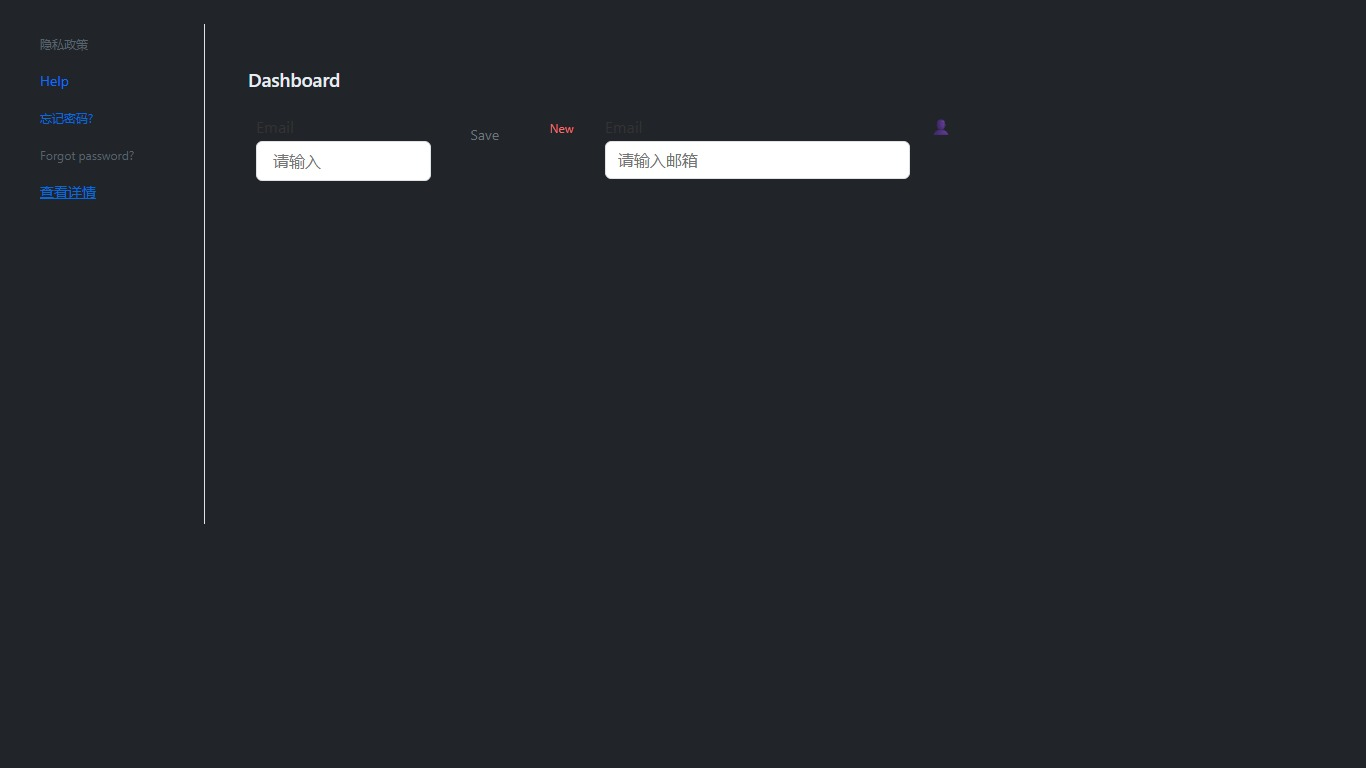button: (451, 116, 518, 154), (538, 117, 584, 139)
icon: (930, 119, 952, 135)
input: (605, 141, 910, 179), (256, 141, 431, 181)
link: (40, 147, 134, 163), (40, 182, 96, 201), (40, 110, 93, 126), (40, 36, 88, 52), (40, 71, 69, 90)
